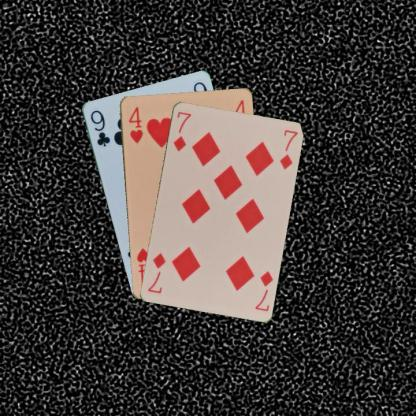4h: (125, 104, 144, 144)
7d: (252, 268, 274, 312), (170, 109, 192, 152)
9c: (87, 107, 112, 148)
